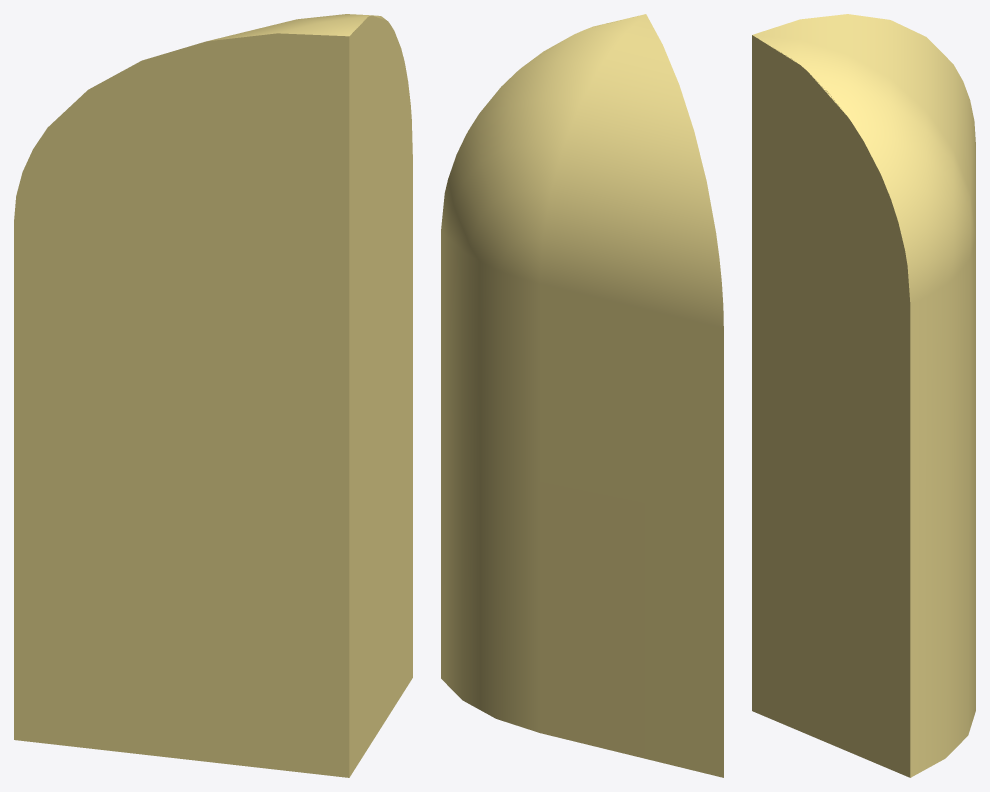
The model's file is Corner_Round.glb.
3 renders of one model, left to right at view 1: azimuth 30°, elevation 25°; view 2: azimuth 150°, elevation 25°; view 3: azimuth 270°, elevation 25°, orthographic. The views are drawn at different scales.
Visible parts, largest first — view 1: Corner_Round; view 2: Corner_Round; view 3: Corner_Round.
Part boxes in pixels (x1,y1,x2,y2): Corner_Round: (14,14,412,777); Corner_Round: (441,14,723,777); Corner_Round: (752,14,975,777).
Bounding box in the file's own units: 0.2561 × 0.5 × 0.15.
